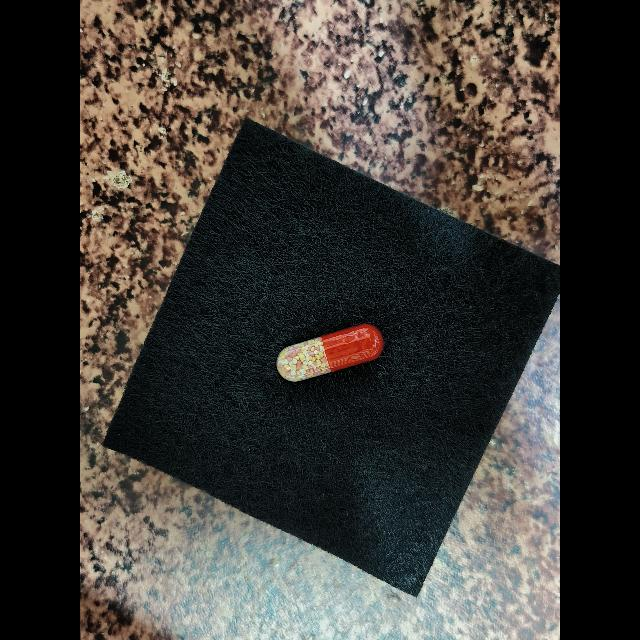Intact Capsule: (277, 324, 383, 382)
